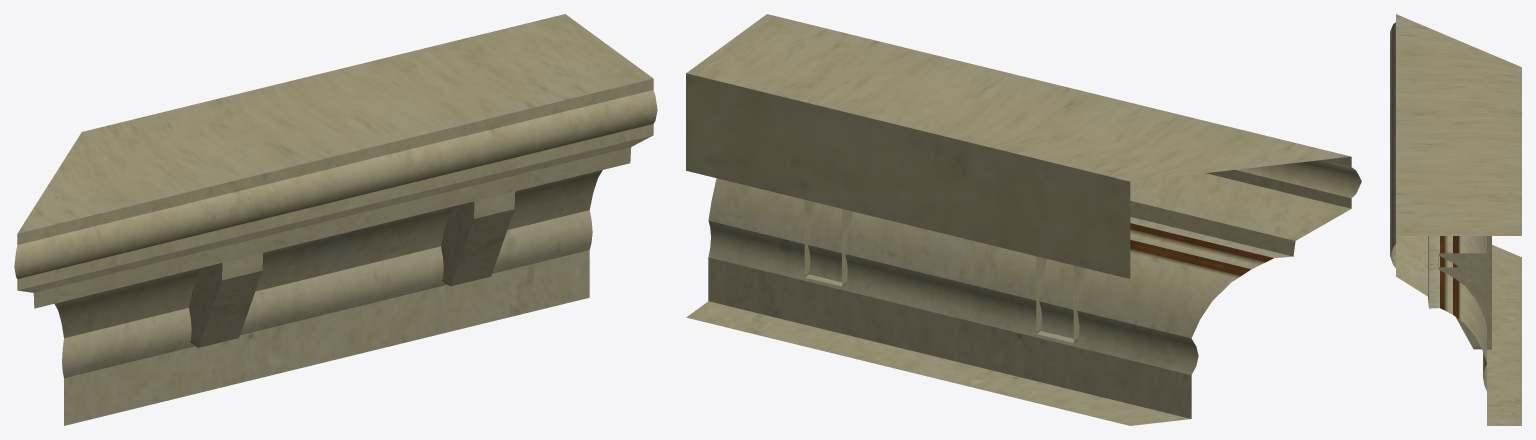
File: cornice_trim_l.glb
The picture shows the model from 3 angles, left to right: view 1: azimuth 30°, elevation 25°; view 2: azimuth 150°, elevation 25°; view 3: azimuth 270°, elevation 25°; orthographic projection. The views are drawn at different scales.
Parts seen in each view (by area): view 1: Cornice_Trim_L; view 2: Cornice_Trim_L; view 3: Cornice_Trim_L.
Part boxes in pixels (bbox=[...]): Cornice_Trim_L: bbox=[14, 14, 657, 425]; Cornice_Trim_L: bbox=[686, 14, 1361, 425]; Cornice_Trim_L: bbox=[1390, 14, 1521, 425].
Bounding box in the file's own units: 2.53 × 0.9984 × 0.6278.
1 material, 1 textured.
